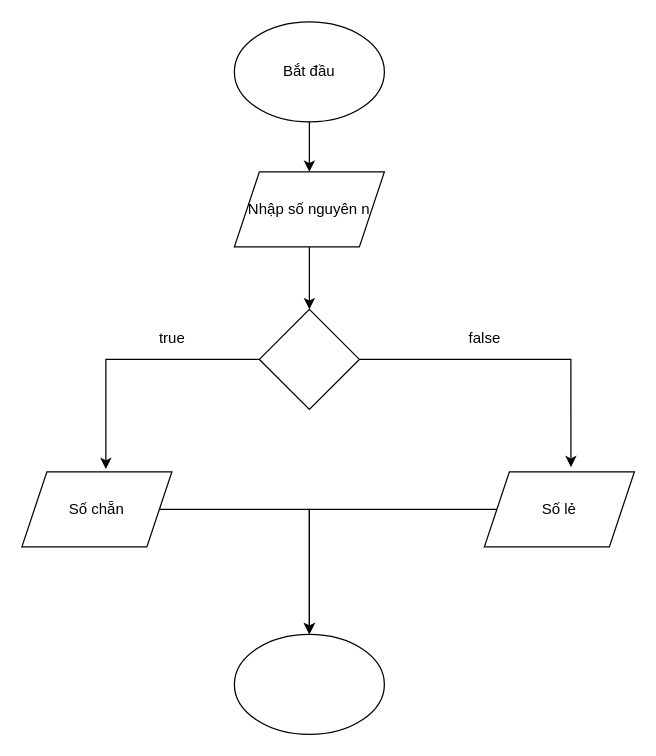
The diagram is 656 pixels wide and 756 high, and some of its shapes have lost their labels. The shapes that lost their labels are listed below. From the top down, each one's centre as x and y in pixels, then its label:
the point at 308,358: n/2 = 0?
the point at 308,683: end.
